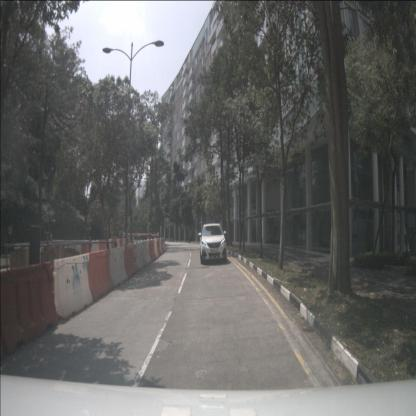movable_object-barrier: (0, 262, 58, 356), (52, 253, 93, 319), (85, 249, 113, 300), (108, 246, 128, 287), (63, 242, 83, 271), (123, 244, 138, 279), (134, 240, 146, 272), (80, 240, 92, 268), (142, 240, 152, 266), (89, 240, 101, 259), (148, 240, 156, 262), (153, 238, 160, 259), (104, 238, 113, 254), (98, 240, 107, 256), (157, 238, 162, 256), (111, 237, 117, 251), (159, 238, 163, 254), (161, 237, 165, 253), (162, 237, 166, 252), (116, 237, 120, 248), (120, 238, 124, 248)
vehicle-car: (200, 223, 227, 265)
